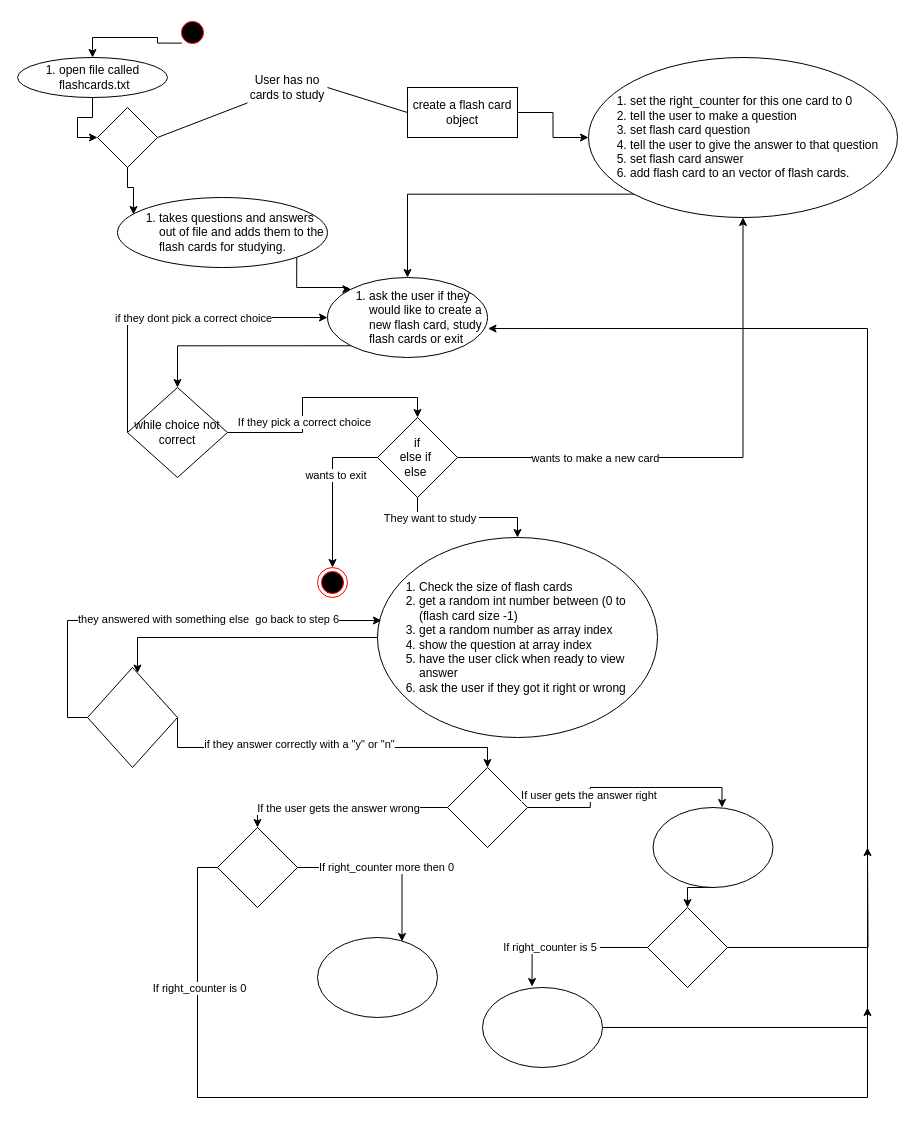
The diagram is 915 pixels wide and 1123 high, and some of its shapes have lost their labels. Each missing label, with the box of its shape:
add one to right_counter of card: (652, 806, 773, 888)
delete the card: (482, 986, 602, 1068)
subtract one from cards right_counter: (316, 936, 438, 1018)
while loop: (86, 666, 178, 768)
